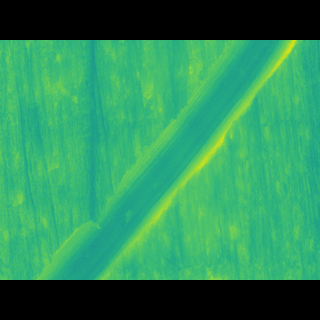Loch: (34, 68, 297, 250)
